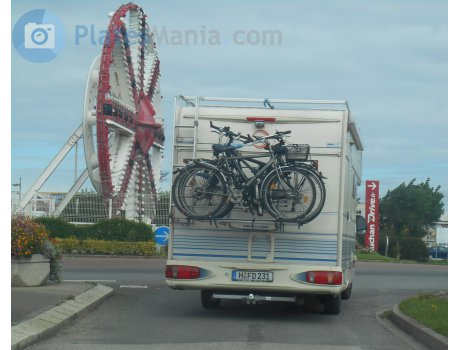License Plates: (235, 270, 270, 277)
